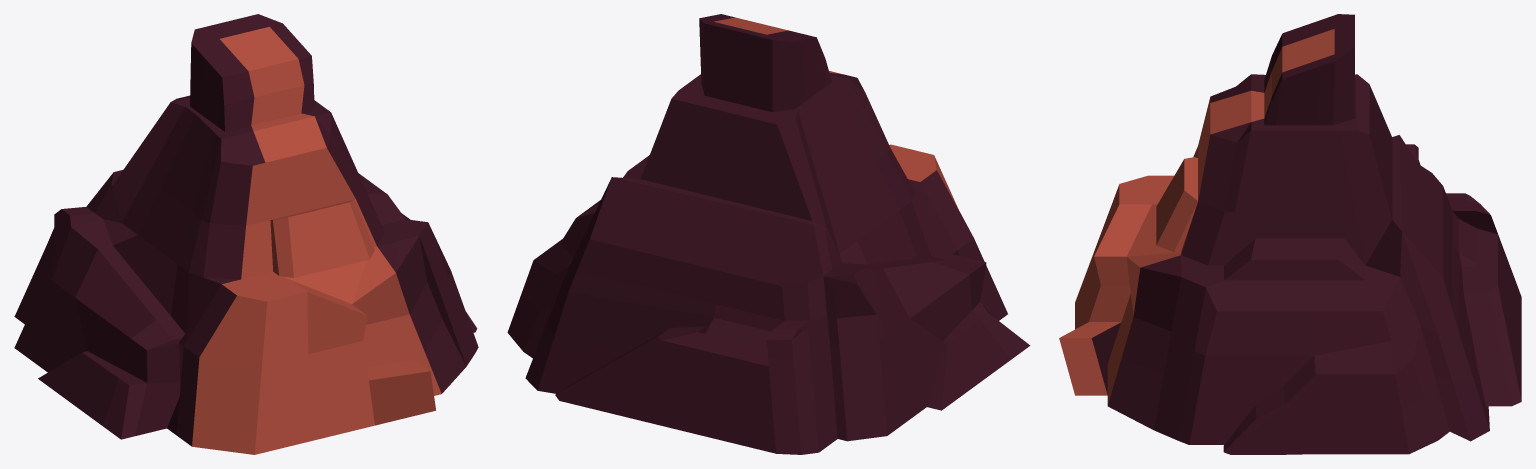
The model's file is vulcao1.fbx.
3 renders of one model, left to right at view 1: azimuth 30°, elevation 25°; view 2: azimuth 150°, elevation 25°; view 3: azimuth 270°, elevation 25°, orthographic. The views are drawn at different scales.
Parts seen in each view (by area): view 1: Cube; view 2: Cube; view 3: Cube.
Part boxes in pixels (bbox=[...]): Cube: bbox=[14, 14, 478, 454]; Cube: bbox=[507, 14, 1030, 454]; Cube: bbox=[1059, 14, 1521, 454].
Size of the model in its own units: 915 by 735 by 916.
